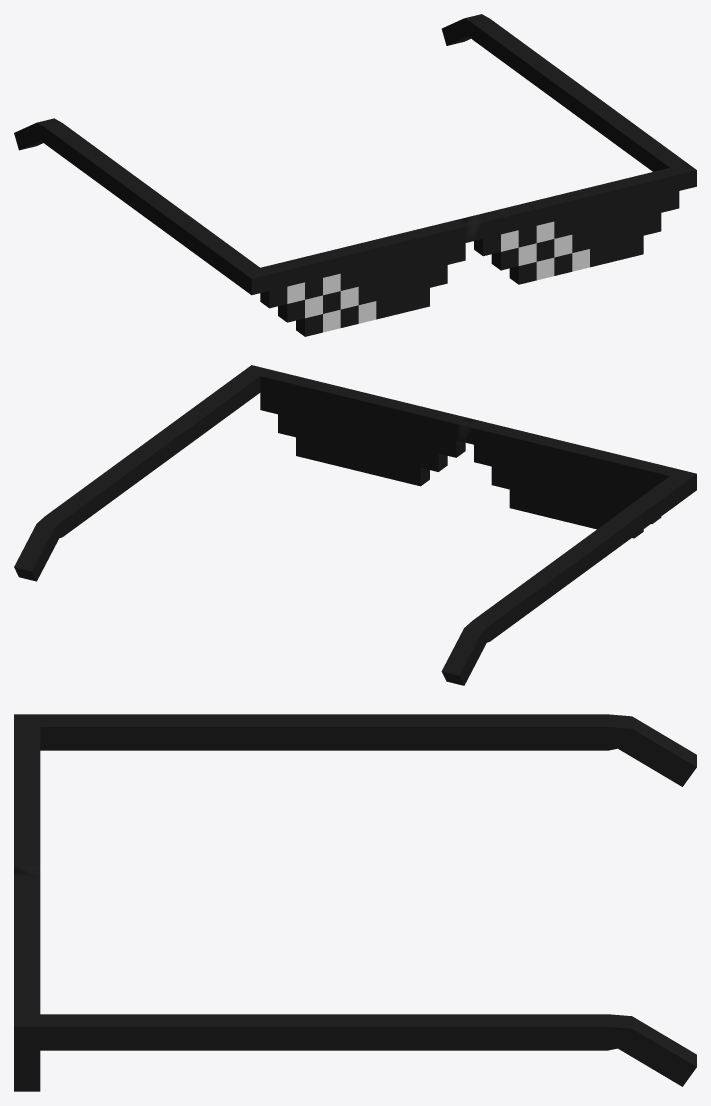
The model's file is M_EyeWear_ThugLife.glb.
3 renders of one model, top to bottom at view 1: azimuth 30°, elevation 25°; view 2: azimuth 150°, elevation 25°; view 3: azimuth 270°, elevation 25°, orthographic. The views are drawn at different scales.
Visible parts, largest first — view 1: M_EyeWear_ThugLife; view 2: M_EyeWear_ThugLife; view 3: M_EyeWear_ThugLife.
Part boxes in pixels (x1,y1,x2,y2): M_EyeWear_ThugLife: [14, 14, 696, 336]; M_EyeWear_ThugLife: [14, 365, 696, 685]; M_EyeWear_ThugLife: [14, 714, 696, 1091].
Size of what is drawn, in the model's own units: 0.918 by 0.1403 by 0.8484.
1 material, 1 textured.
